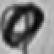correct: (0, 0, 46, 54)
